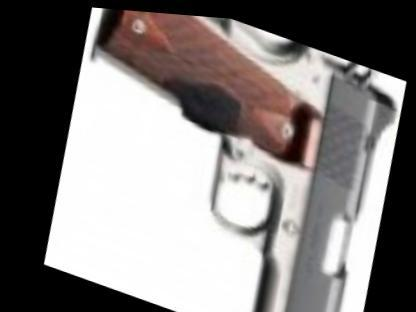pistol: (29, 1, 415, 311)
